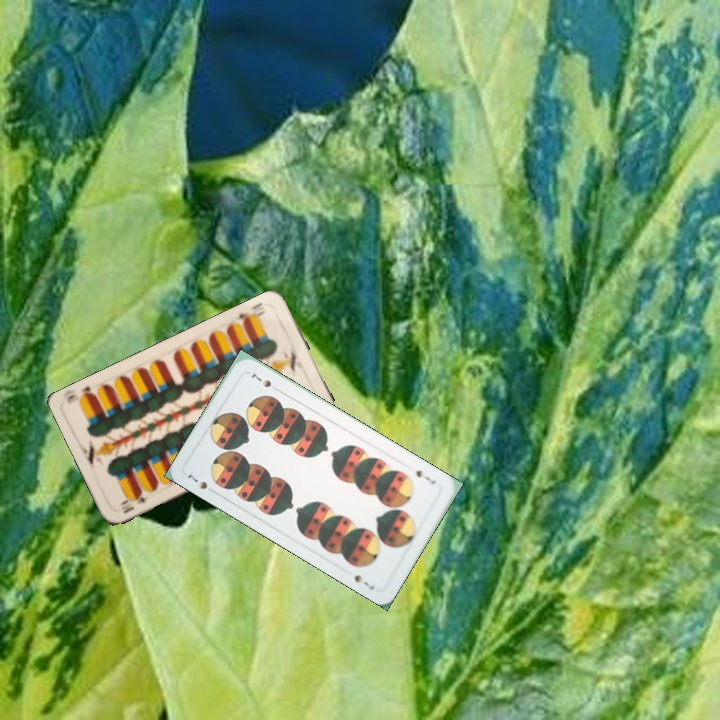E10: (233, 298, 268, 328), (117, 488, 151, 516)
S7: (183, 470, 219, 497), (411, 466, 439, 487)
